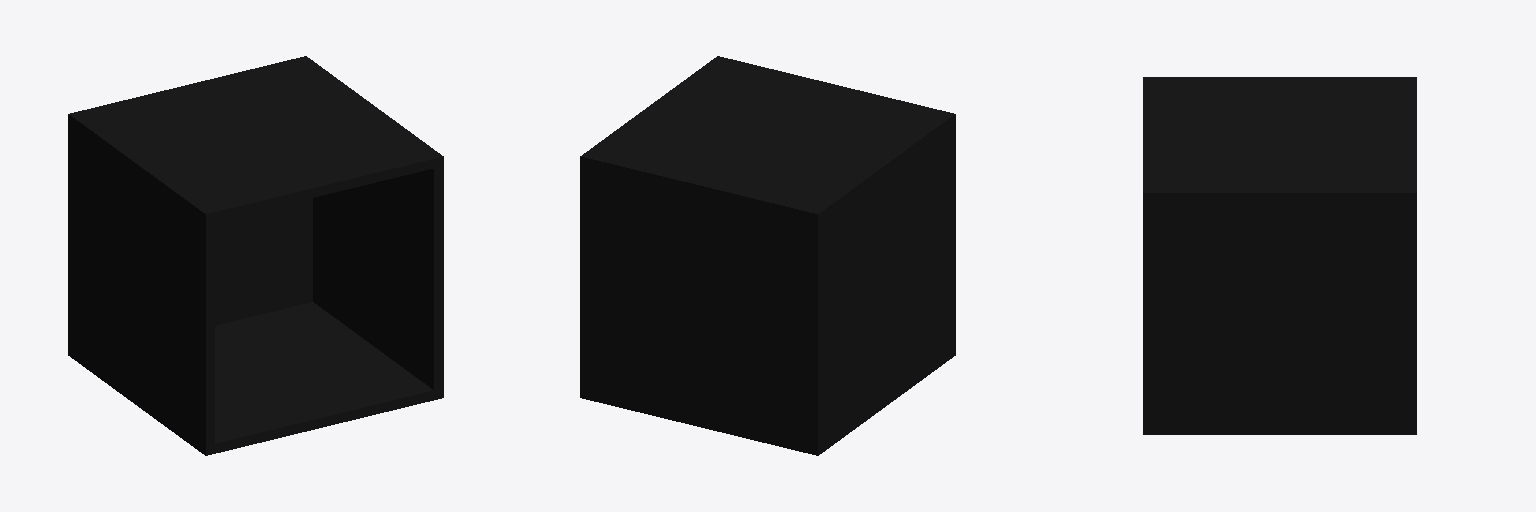
Rendered from Drawer.obj.
3 views of the same model, side by side, from view 1: azimuth 30°, elevation 25°; view 2: azimuth 150°, elevation 25°; view 3: azimuth 270°, elevation 25° (orthographic).
Visible parts, largest first — view 1: polySurface2; view 2: polySurface2; view 3: polySurface2.
Boxes of the visible parts, <box> form: polySurface2: <box>68,56,443,455</box>; polySurface2: <box>580,56,955,455</box>; polySurface2: <box>1143,77,1416,434</box>.
Size of the model in its own units: 2.61 by 2.54 by 2.61.